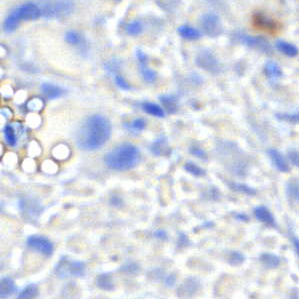Lymphocyte: (250, 7, 285, 37)
